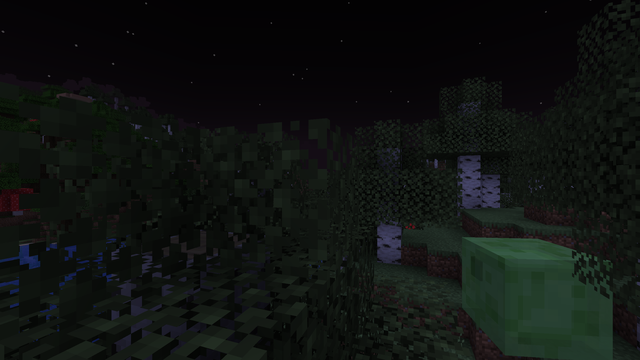slimes: (466, 232, 612, 357)
